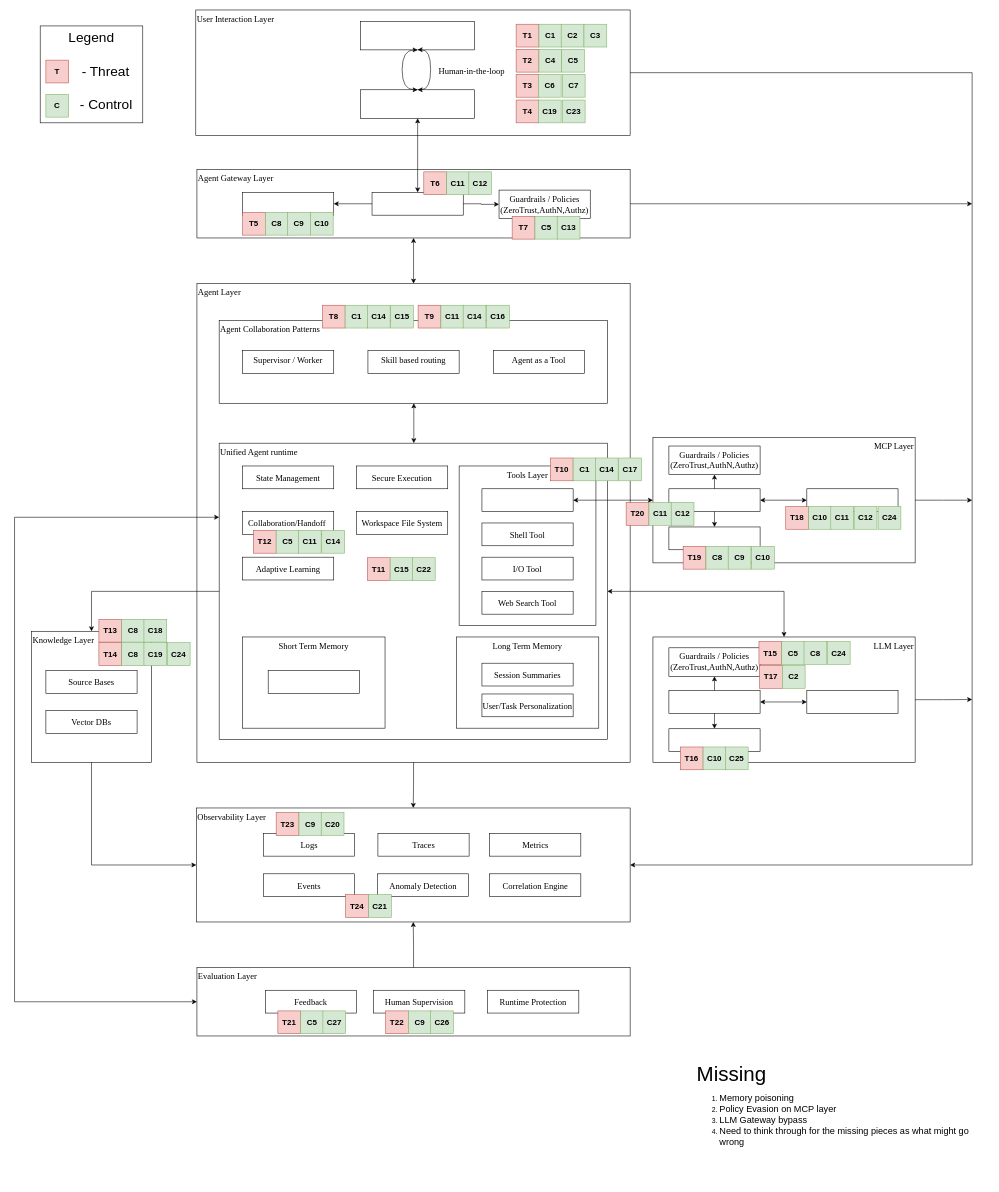
Image size: 999x1192. Some labels were removed from this diagram. Each missing label, with the centre of its shape:
Agent Registry: (288,203)
Application: (417,103)
Gateway: (417,203)
In-Session Context Manager: (313,681)
LLM Gateway: (714,701)
LLM ZOO: (852,701)
MCP Client: (527,500)
MCP Gateway: (714,500)
MCP Registry: (714,538)
MCP ZOO: (852,500)
Model Registry: (714,740)
User: (417,35)
